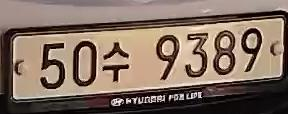0: (70, 37, 100, 89)
3: (183, 30, 211, 81)
5: (37, 38, 69, 91)
8: (210, 27, 239, 75)
9: (153, 29, 183, 82), (239, 27, 267, 74)
수: (99, 37, 134, 87)
